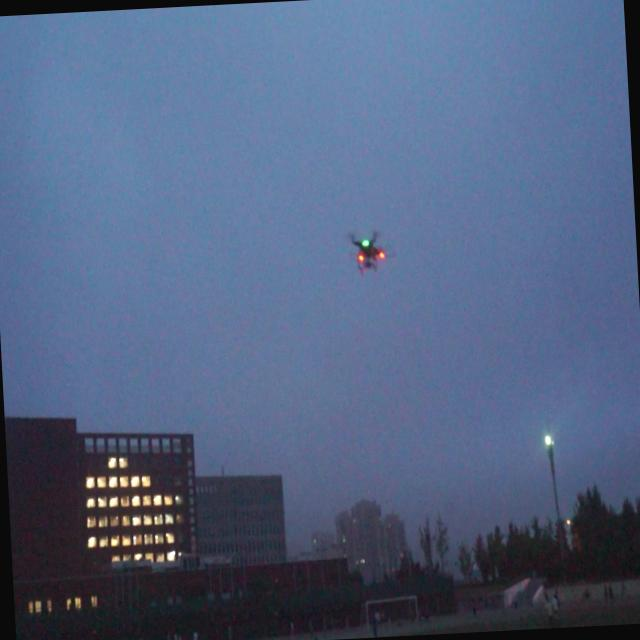drone: (345, 224, 392, 278)
